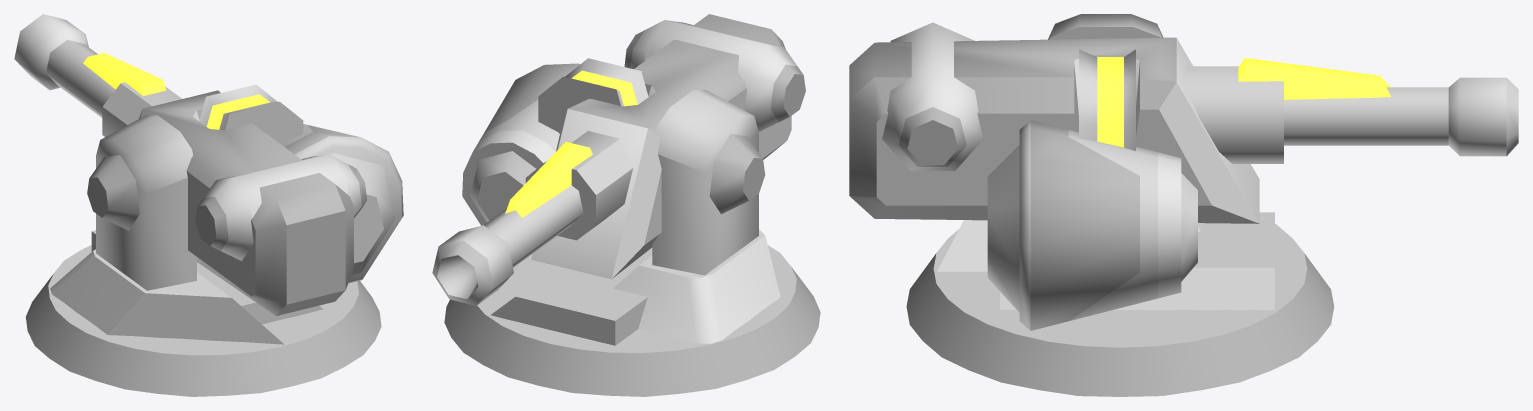
File: SM_Module_TurretHead_Kinetic_T1.fbx
3 renders of one model, left to right at view 1: azimuth 30°, elevation 25°; view 2: azimuth 150°, elevation 25°; view 3: azimuth 270°, elevation 25°, orthographic. The views are drawn at different scales.
Parts seen in each view (by area): view 1: SM_Module_TurretHead_Kinetic_T1; view 2: SM_Module_TurretHead_Kinetic_T1; view 3: SM_Module_TurretHead_Kinetic_T1.
Part boxes in pixels (x1,y1,x2,y2): SM_Module_TurretHead_Kinetic_T1: [14, 14, 403, 396]; SM_Module_TurretHead_Kinetic_T1: [432, 14, 820, 396]; SM_Module_TurretHead_Kinetic_T1: [849, 14, 1518, 396].
Size of the model in its own units: 2.6 by 3.96 by 1.71.
